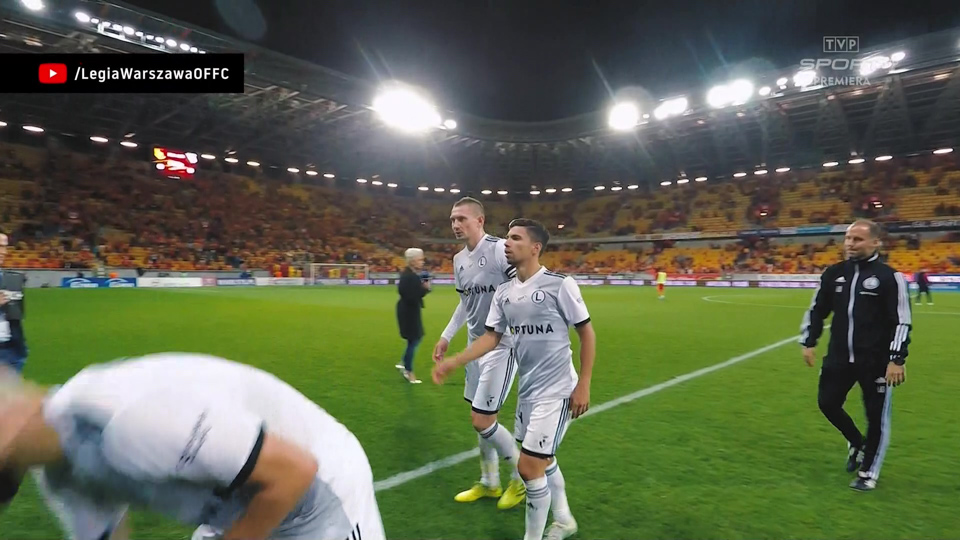Adidas: (503, 297, 510, 303)
